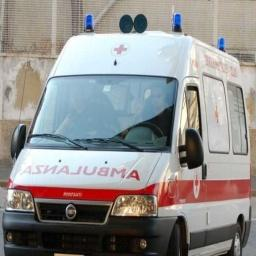ambulance: (2, 13, 250, 255)
